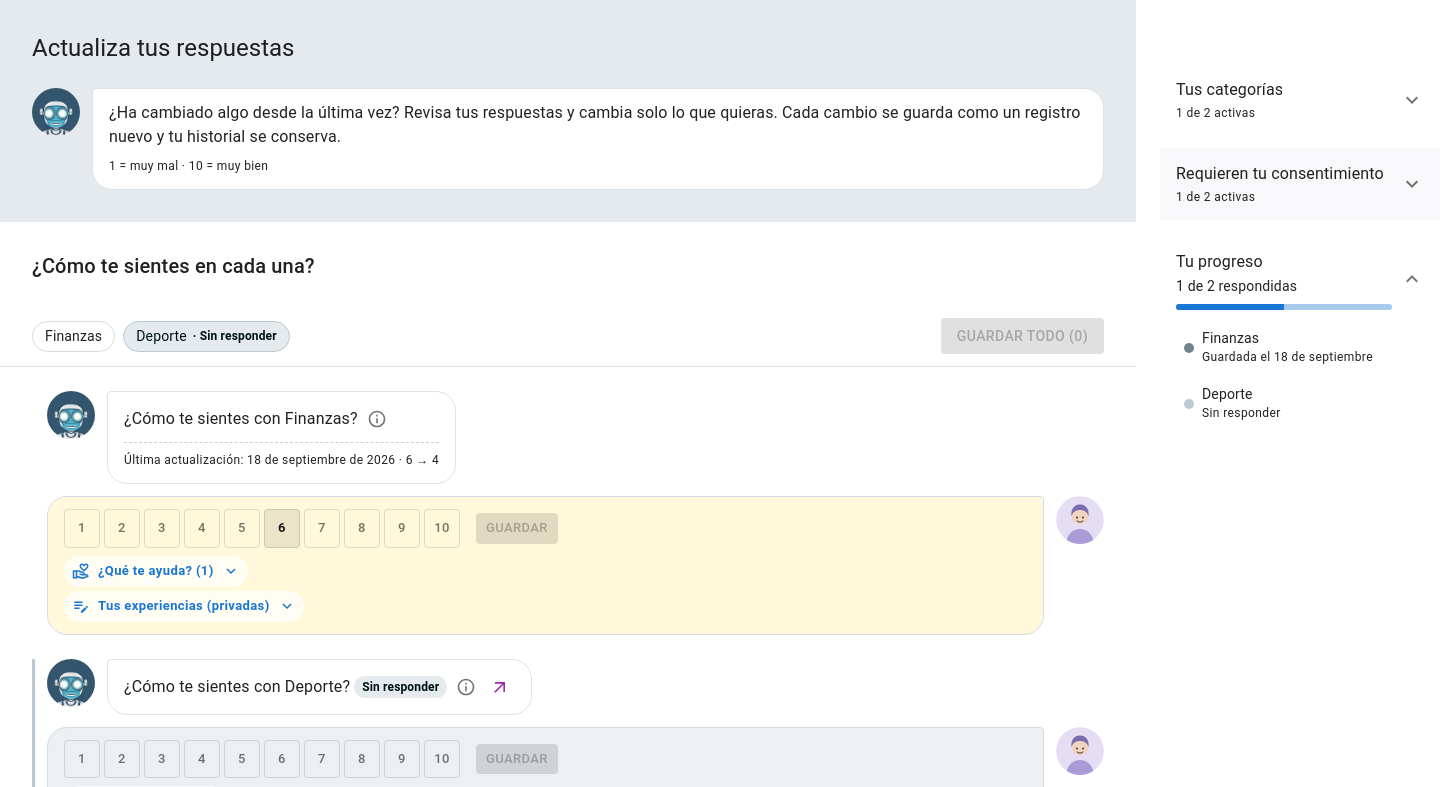
InterviewPage (RF-10) › categorías en acordeón al actualizar (UX-06) › con respuestas guardadas, las dos listas van plegadas, cada una con cuántas tiene activas
Expected: the heading "Actualiza tus respuestas" is shown, [32,34,294,62]
Expected: the button "Requieren tu consentimiento 1 de 2 activas" is shown, [1160,148,1440,220]
Click the button "Tus categorías 1 de 2 activas". click: point(1230, 90)
box: [1160,64,1440,136]
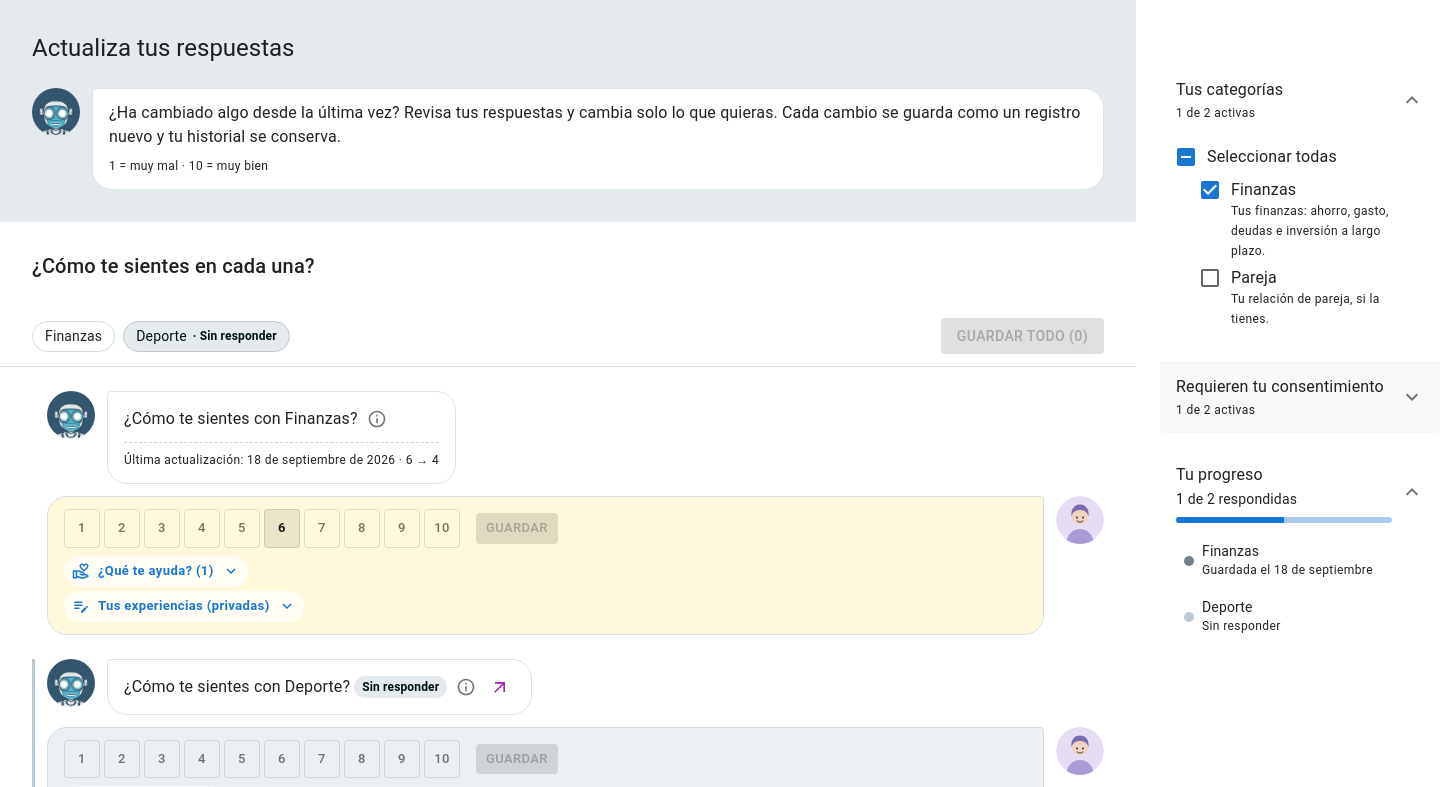
Now the checkbox labelled "Pareja Tu relación de pareja, si la tienes." is not checked, box [1198,266,1380,326]
